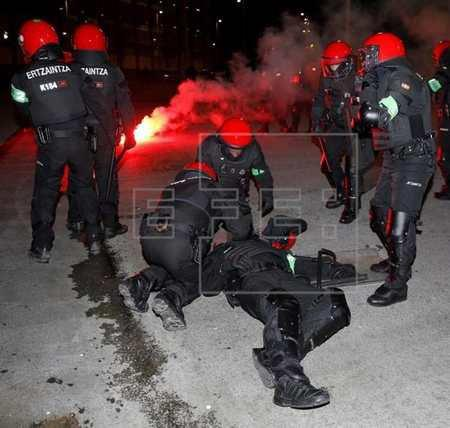fall: (200, 209, 351, 411)
